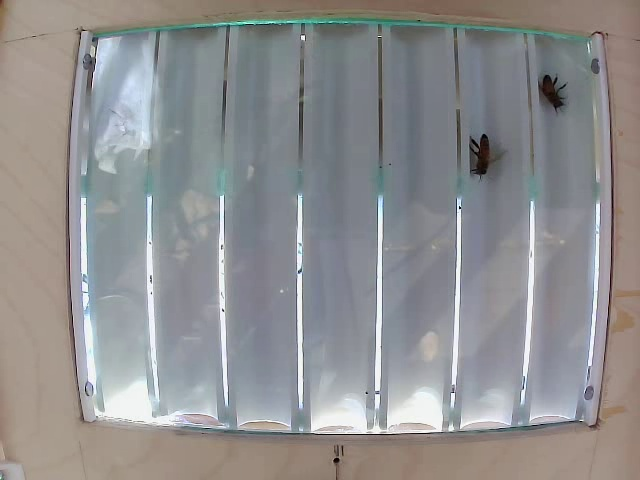bee: (459, 134, 501, 188), (534, 74, 572, 122)
